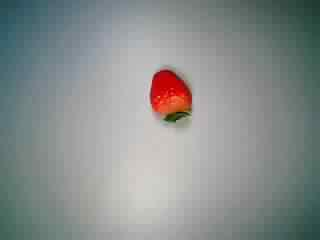strawberry: (135, 62, 197, 132)
